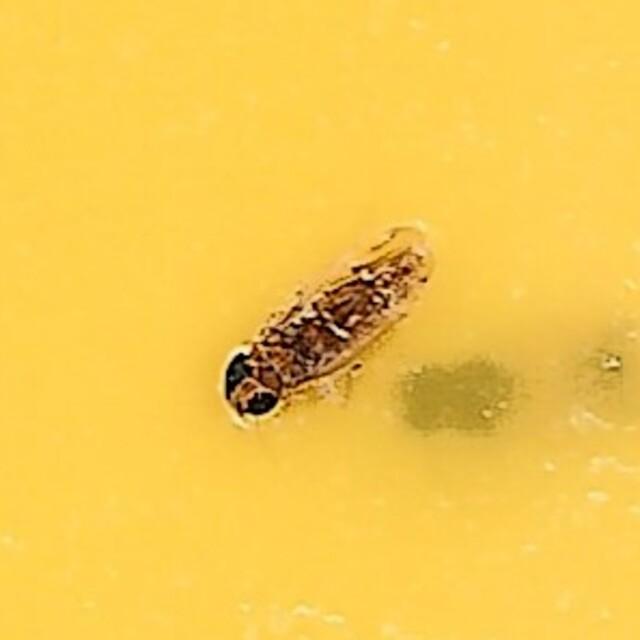Hemiptera: (215, 221, 425, 419)
